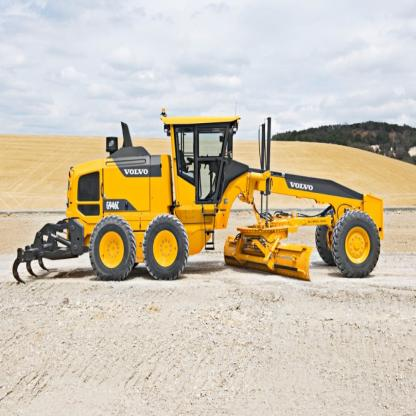bull_dozer/loader/grader: (17, 105, 400, 287)
